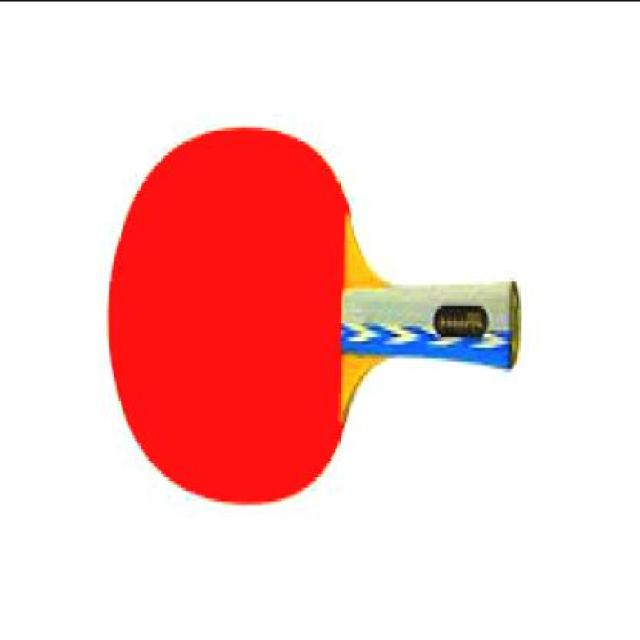table_tennis_racket: (102, 120, 376, 517)
